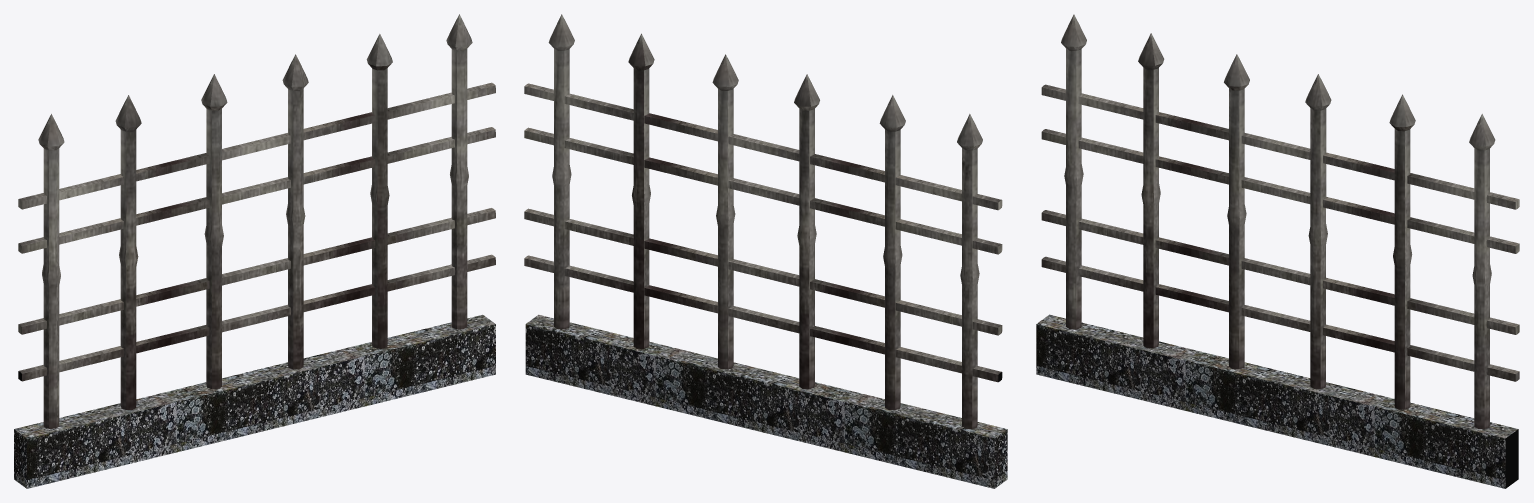
The model's file is barrière sans poteau.FBX.
3 views of the same model, side by side, from view 1: azimuth 30°, elevation 25°; view 2: azimuth 150°, elevation 25°; view 3: azimuth 330°, elevation 25° (orthographic).
Visible parts, largest first — view 1: Box005; view 2: Box005; view 3: Box005.
Boxes of the visible parts, left/top/right/bottom form: Box005: left=14, top=14, right=495, bottom=488; Box005: left=524, top=14, right=1007, bottom=488; Box005: left=1036, top=14, right=1519, bottom=488.
Size of the model in its own units: 146 by 107 by 7.51.
Materials: 4 (2 with a texture image).
